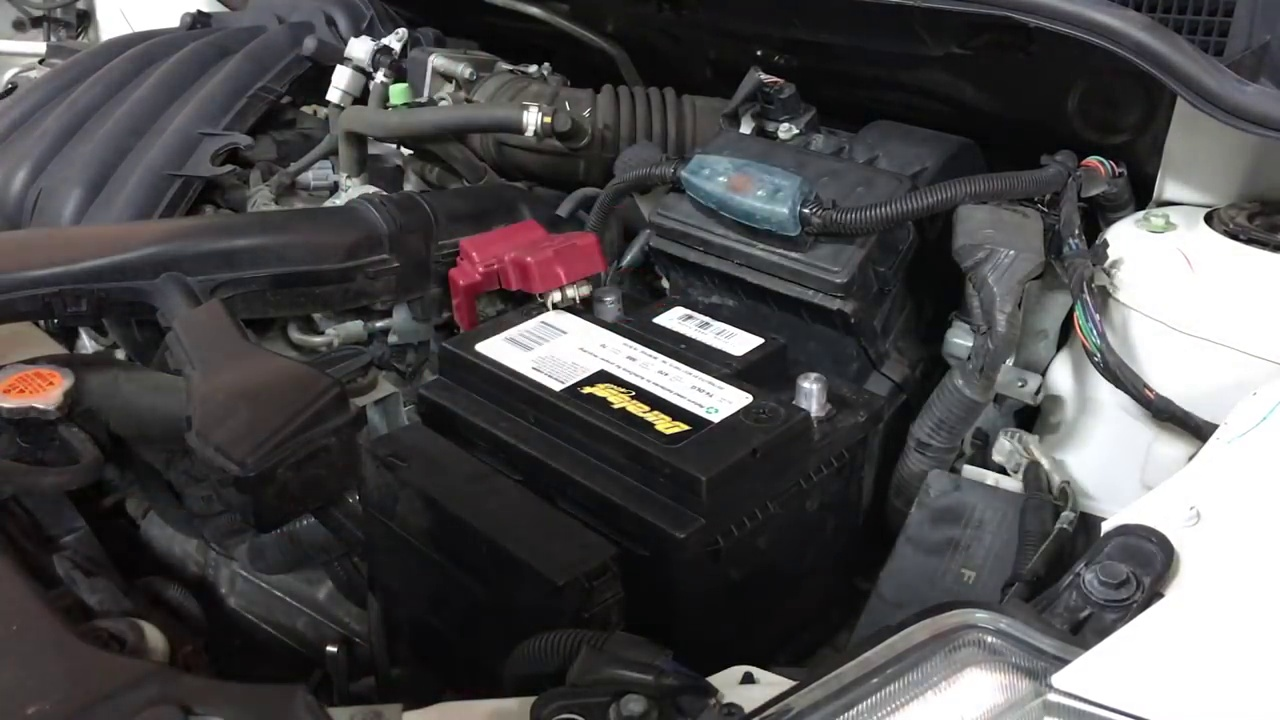battery: (441, 285, 856, 499)
neg_disconnected: (762, 344, 858, 433)
pos_disconnected: (443, 219, 633, 342)
